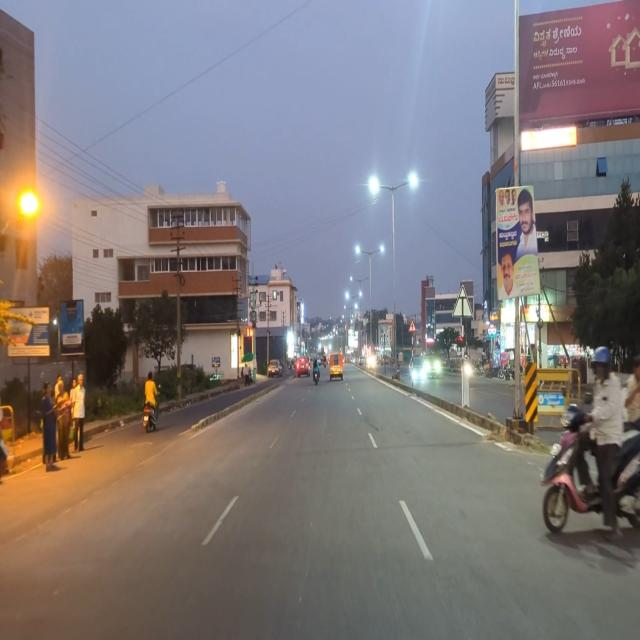bien_cam: (408, 319, 417, 332)
